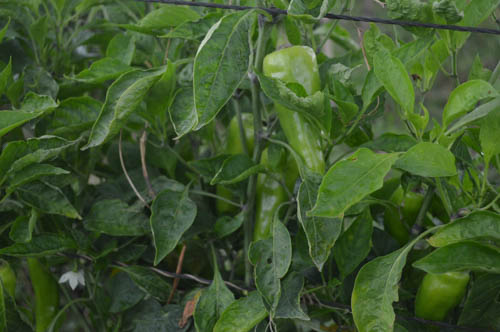ChiliPepper: (265, 45, 325, 169), (258, 150, 301, 238), (218, 117, 257, 210), (413, 270, 464, 317), (382, 190, 420, 238)
